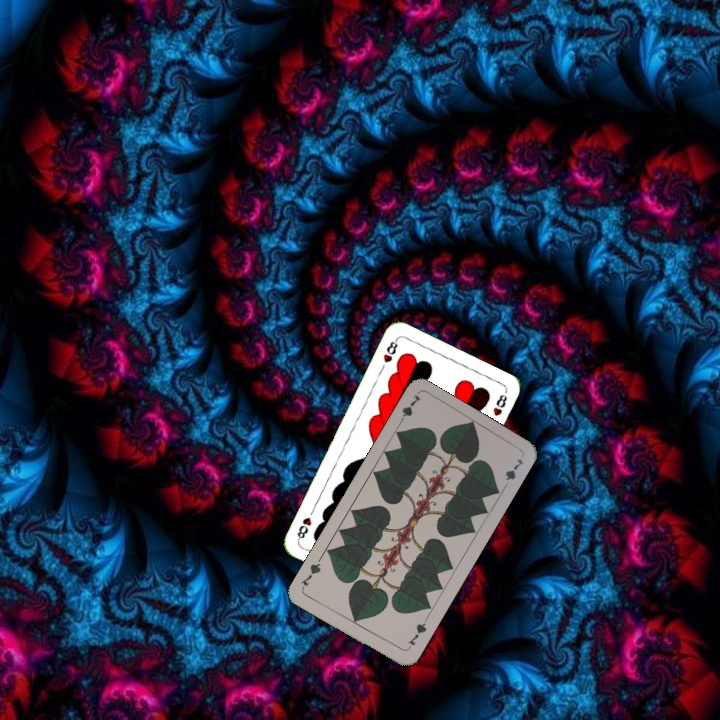G7: (394, 391, 424, 428), (403, 616, 429, 652)
H8: (379, 335, 400, 365)
